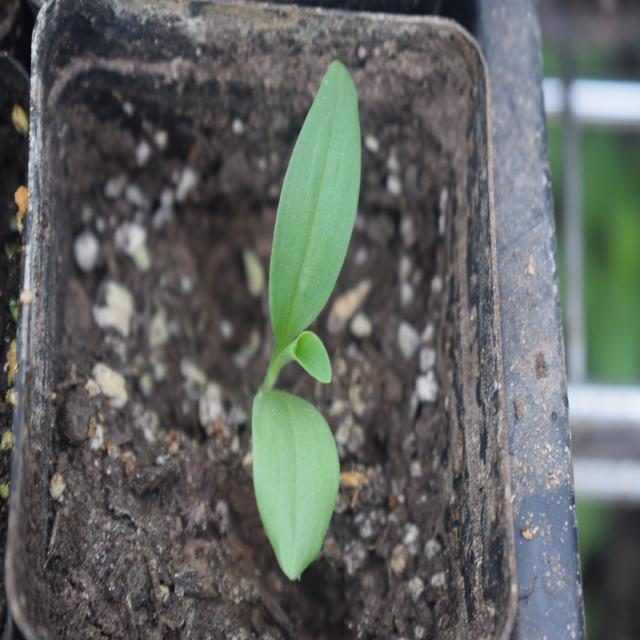Common Dayflower: (247, 53, 392, 599)
